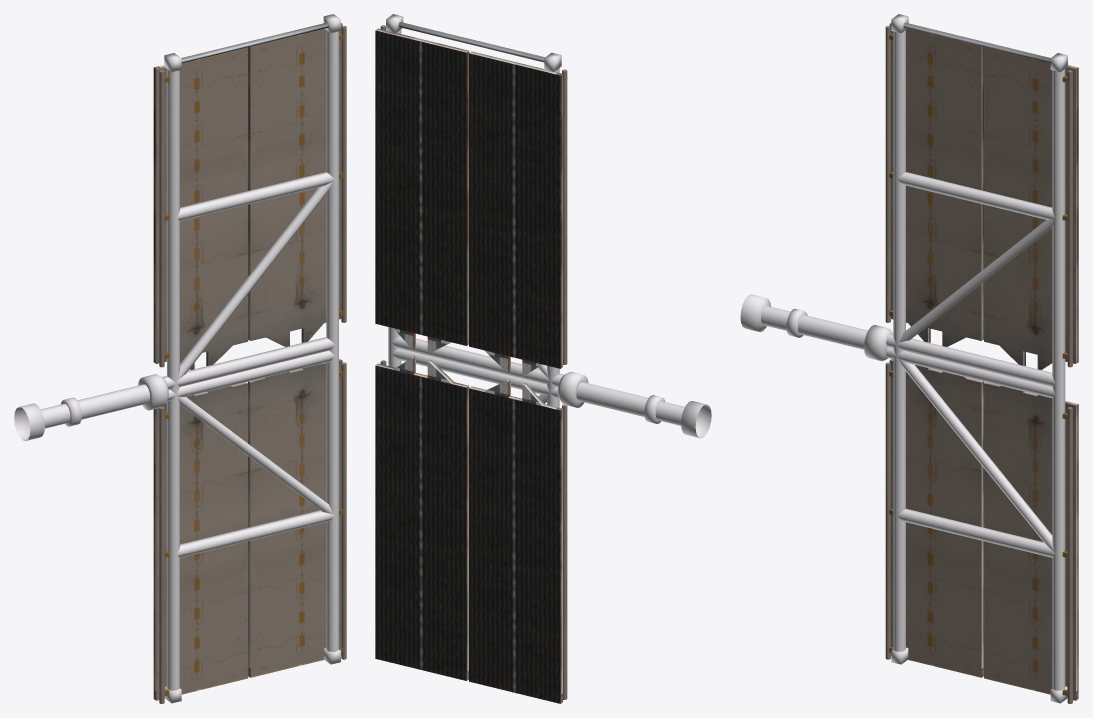
The model's file is hubble-array-right.glb.
3 views of the same model, side by side, from view 1: azimuth 30°, elevation 25°; view 2: azimuth 150°, elevation 25°; view 3: azimuth 330°, elevation 25° (orthographic).
Visible parts, largest first — view 1: array-right; view 2: array-right; view 3: array-right.
Boxes of the visible parts, x1,y1,x2,y2 form: array-right: [14, 14, 346, 703]; array-right: [375, 14, 711, 703]; array-right: [740, 14, 1078, 703].
Size of the model in its own units: 3.67 by 6.97 by 0.3164.
Materials: 1 (1 with a texture image).
